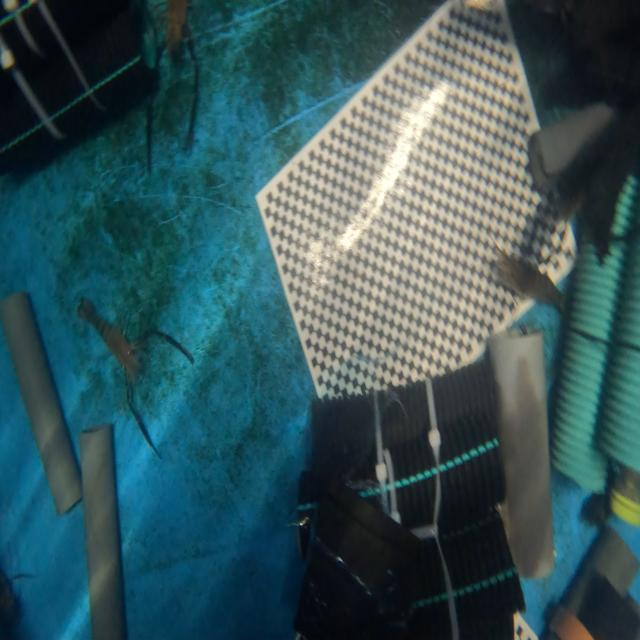prawn: (78, 299, 137, 379), (494, 255, 559, 304)
